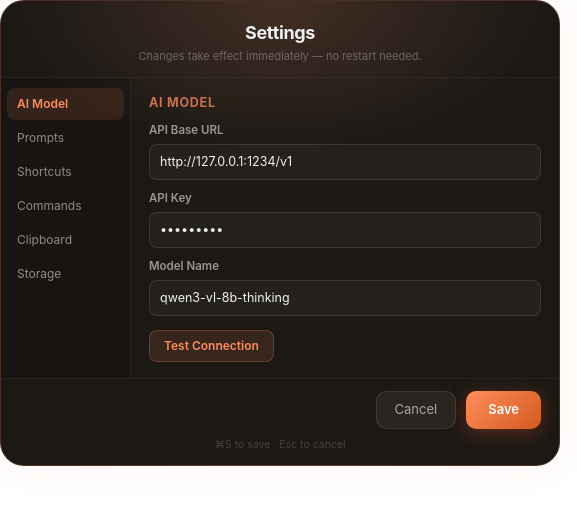
Test case: SettingsView › shows save error when update_settings rejects
Click the button with test id "settings-save-btn" at (504, 410), box x1=466 y1=391 x2=541 y2=429
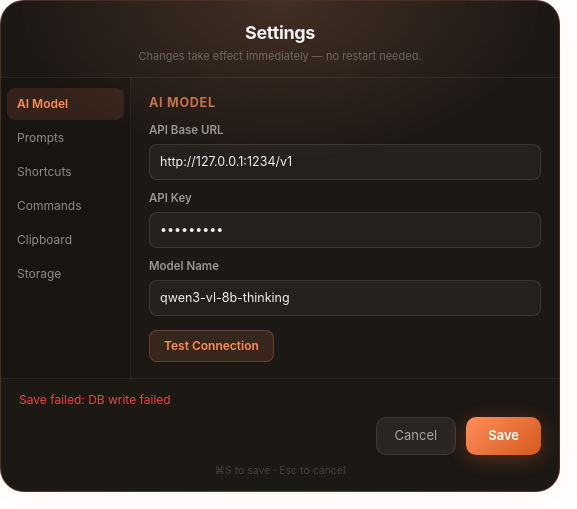
Check: the text with test id "settings-save-error" shows "DB write failed", box x1=88 y1=392 x2=171 y2=407
